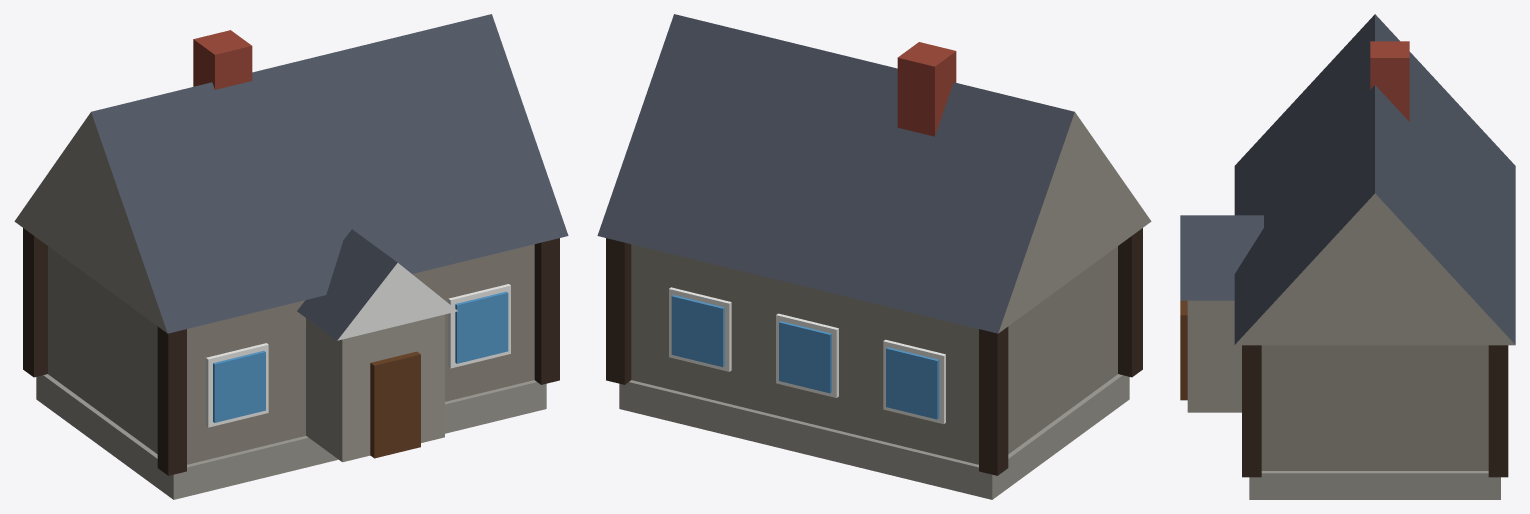
Rendered from 72_lithuanian_troba_2.obj.
3 renders of one model, left to right at view 1: azimuth 30°, elevation 25°; view 2: azimuth 150°, elevation 25°; view 3: azimuth 270°, elevation 25°, orthographic. The views are drawn at different scales.
Visible parts, largest first — view 1: 72_lithuanian_troba_2; view 2: 72_lithuanian_troba_2; view 3: 72_lithuanian_troba_2.
Part boxes in pixels (<box>): 72_lithuanian_troba_2: <box>14,14,568,499</box>; 72_lithuanian_troba_2: <box>597,14,1151,499</box>; 72_lithuanian_troba_2: <box>1180,14,1515,499</box>.
Bounding box in the file's own units: 1.72 × 1.52 × 1.36.
